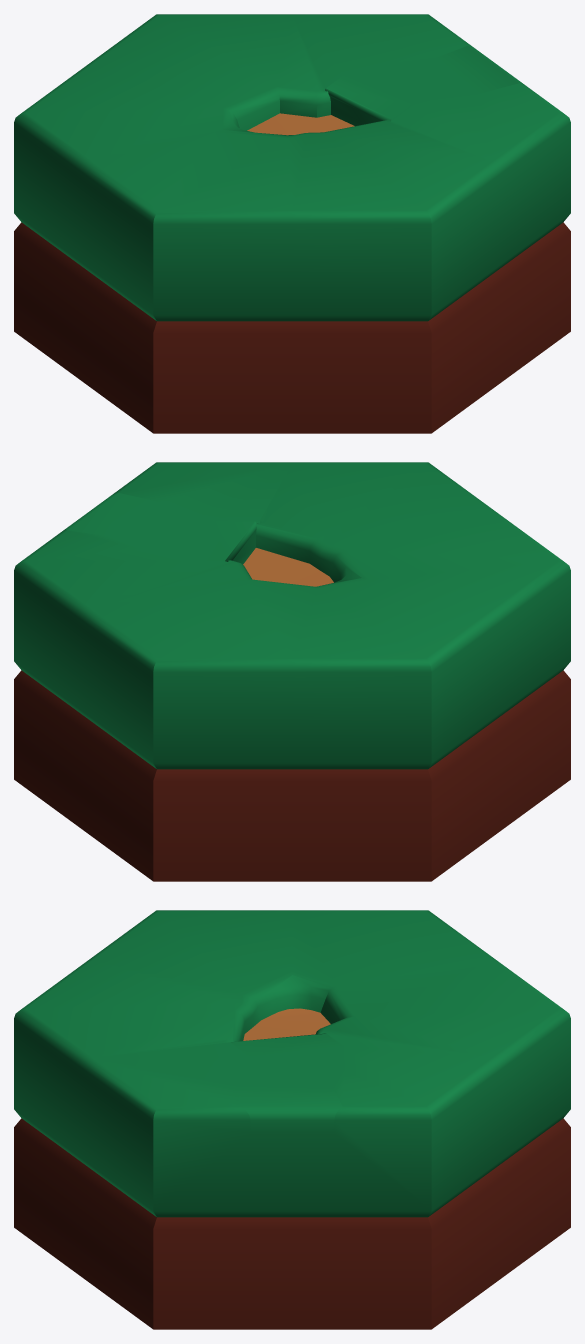
Rendered from Single.obj.
The picture shows the model from 3 angles, top to bottom: view 1: azimuth 30°, elevation 25°; view 2: azimuth 150°, elevation 25°; view 3: azimuth 270°, elevation 25°; orthographic projection.
Parts seen in each view (by area): view 1: hex_forest_roadA_detail_Cylinder.472; view 2: hex_forest_roadA_detail_Cylinder.472; view 3: hex_forest_roadA_detail_Cylinder.472.
Part boxes in pixels (box(x1,y1,x2,y2)): hex_forest_roadA_detail_Cylinder.472: box(14, 14, 570, 433); hex_forest_roadA_detail_Cylinder.472: box(14, 462, 570, 881); hex_forest_roadA_detail_Cylinder.472: box(14, 910, 570, 1329).
Size of the model in its own units: 2 by 1 by 2.31.
